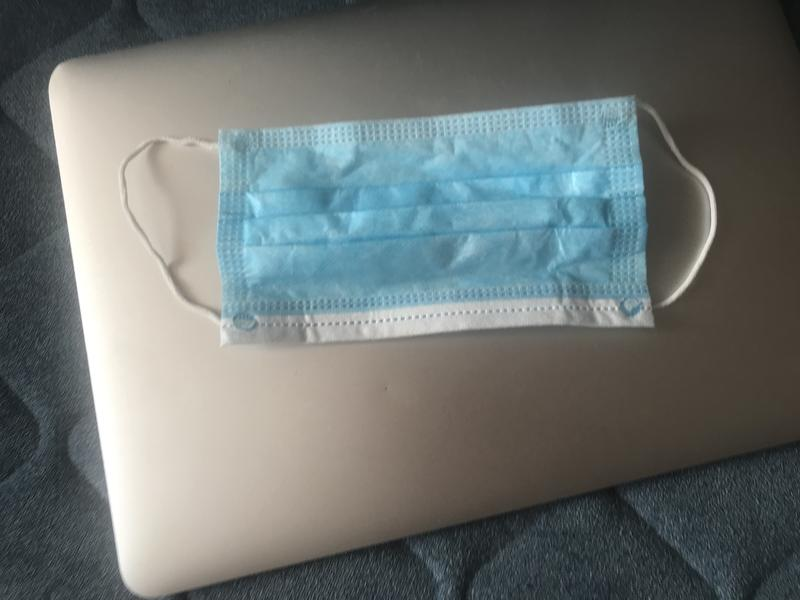medical_mask: (120, 97, 716, 342)
